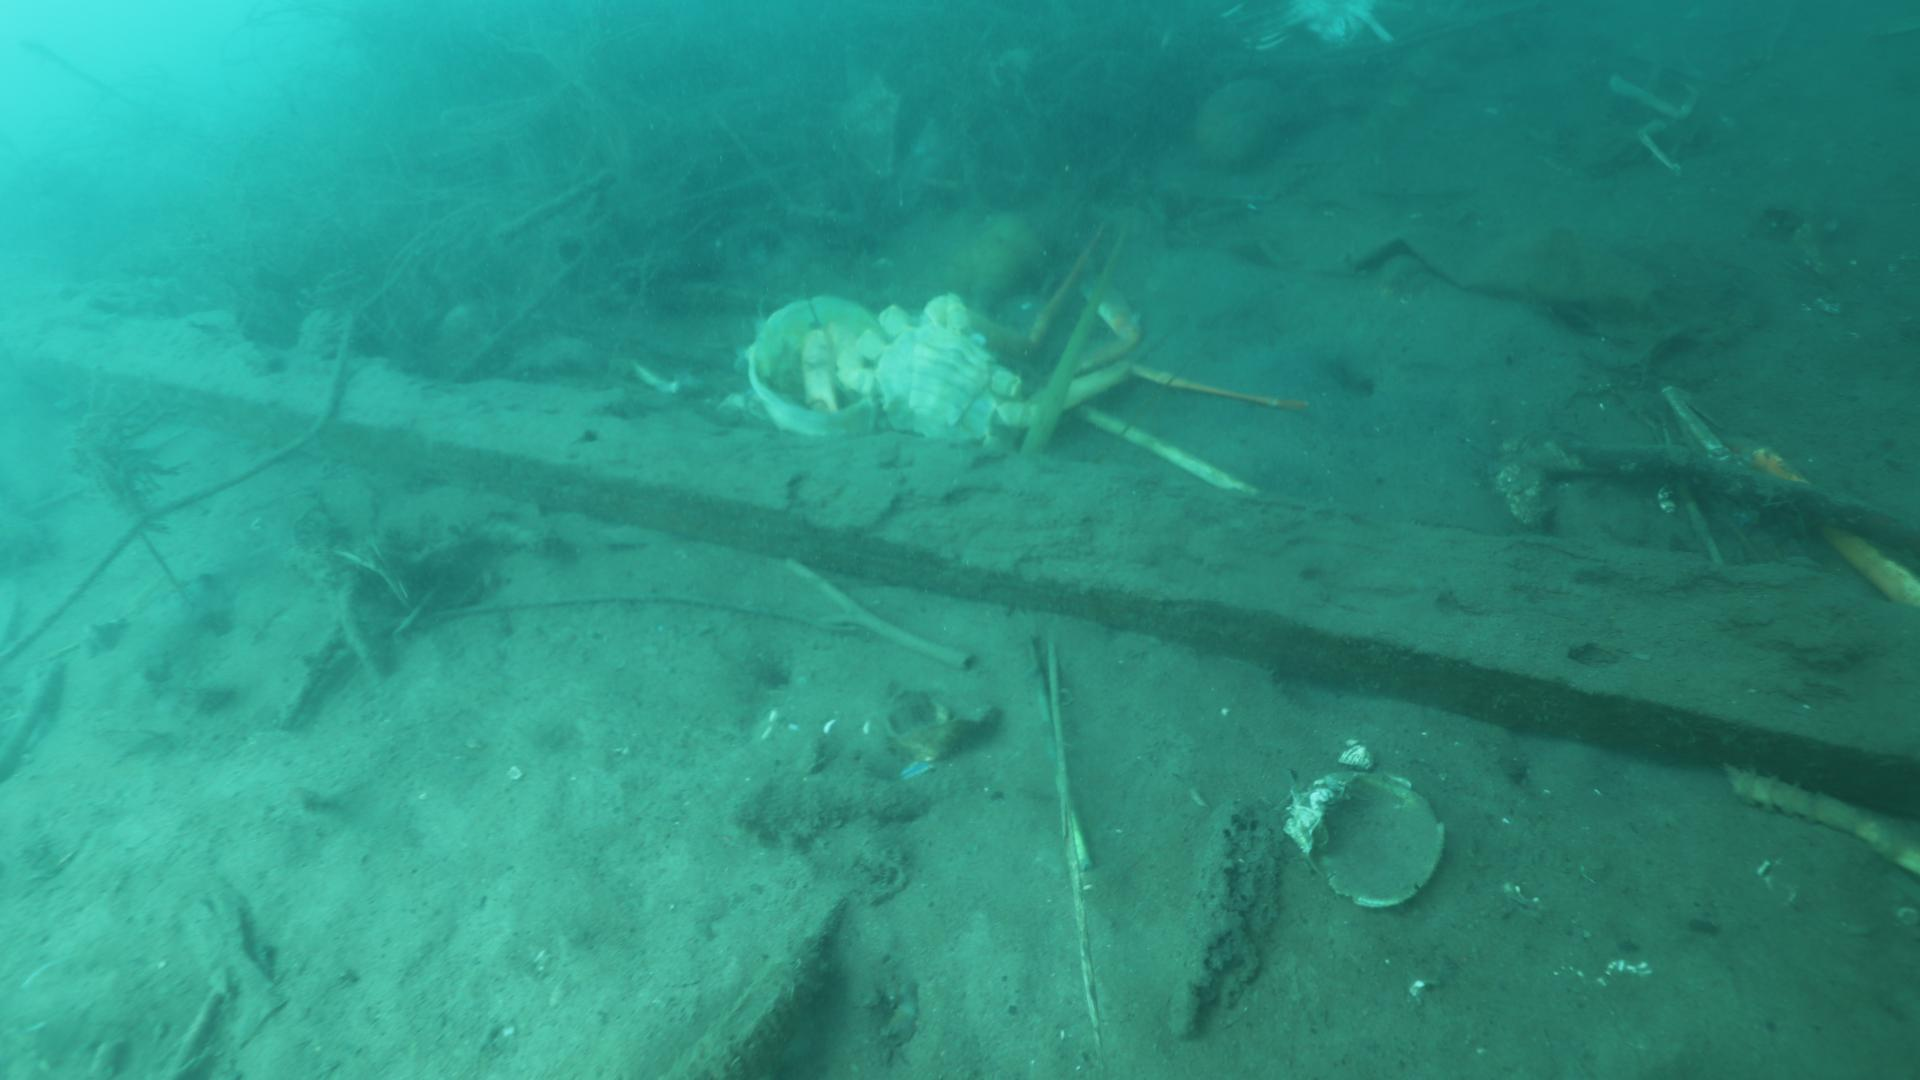wood: (0, 287, 1920, 822)
